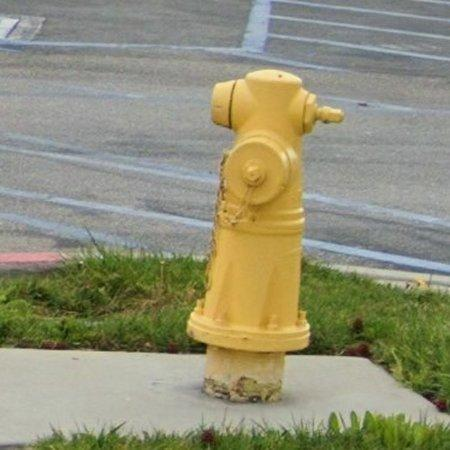a fire hydrant: (188, 69, 345, 356)
